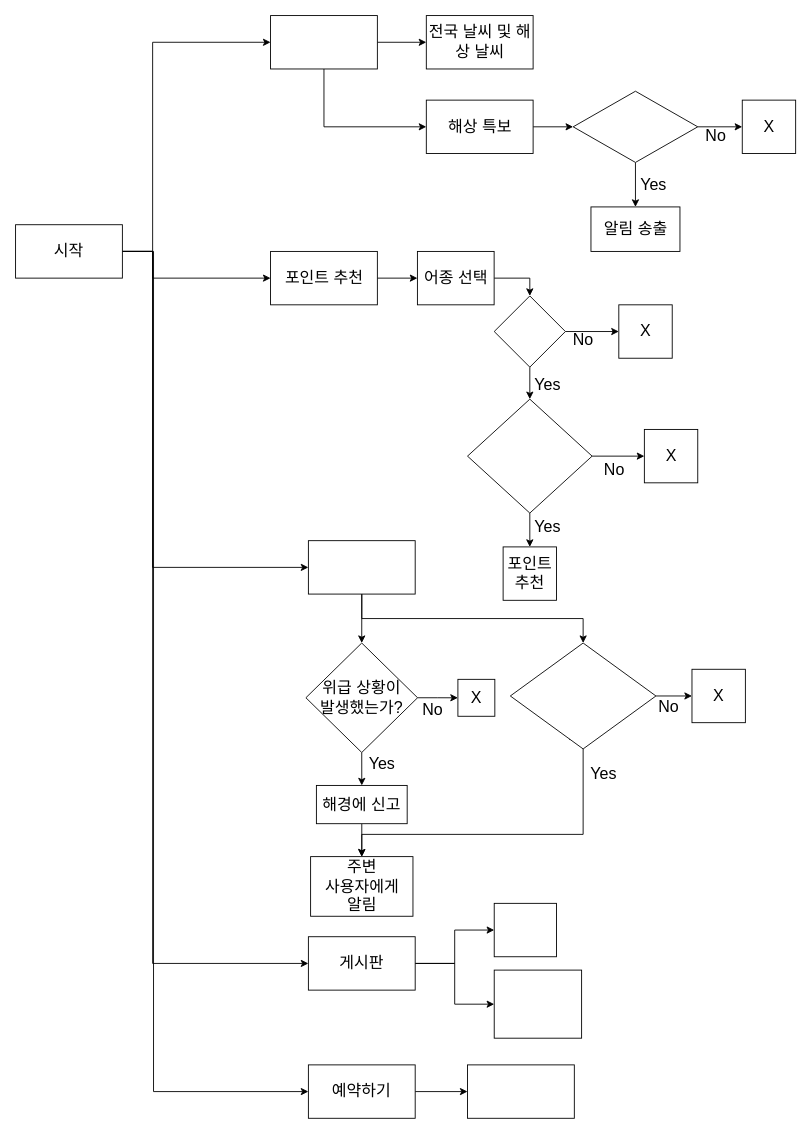
Image size: 812x1134. Some labels were removed from this diagram. Here are the shapes that lost their labels. From the top down, the centre of each, then its label:
At pixel 323 42: "날씨".
At pixel 635 126: "특보 발생 했는가?".
At pixel 529 331: "날씨가 좋은가".
At pixel 529 455: "해당 어종의 조황이 좋은가 ?".
At pixel 361 567: "SOS".
At pixel 582 695: "주변에서 위급 상황이 발생했는가?".
At pixel 525 929: "낚시 팁 게시판".
At pixel 537 1003: "자랑하기 및 정보 공유 게시판".
At pixel 520 1091: "선박, 숙소, 맛집 예약하기".
